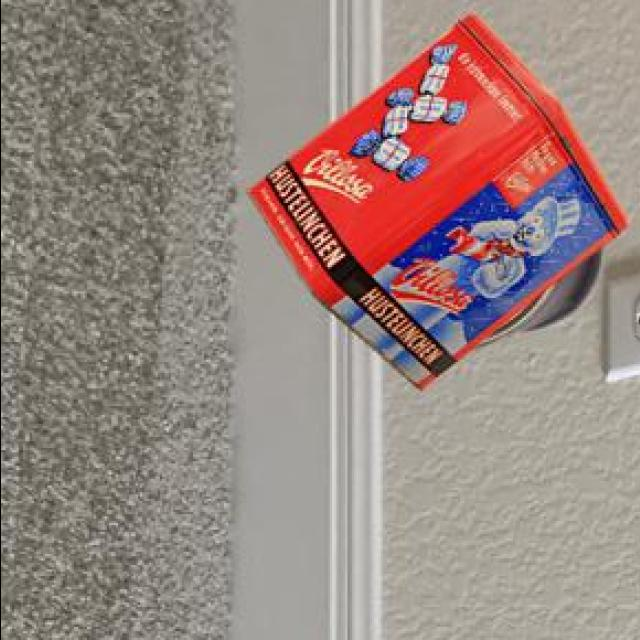logam: (250, 12, 630, 387), (480, 245, 604, 343)
